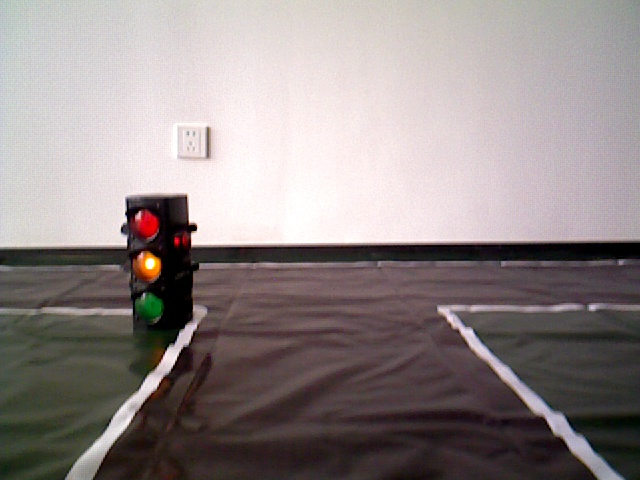yellow: (126, 196, 190, 326)
